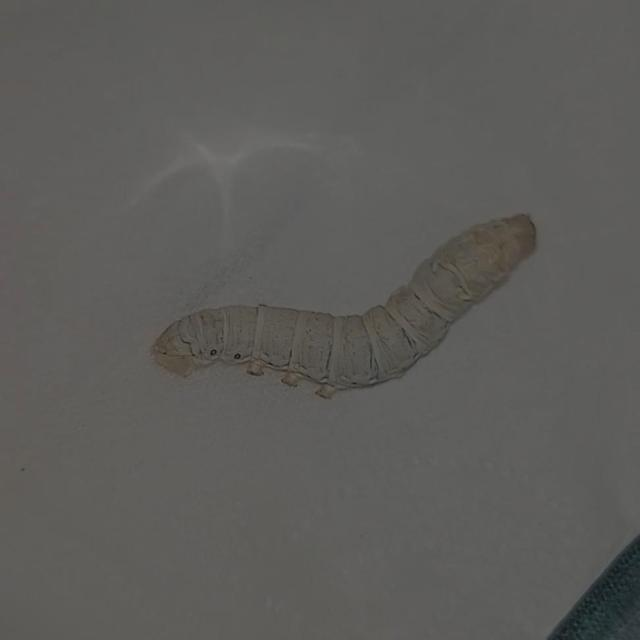Healthy: (135, 184, 565, 432)
